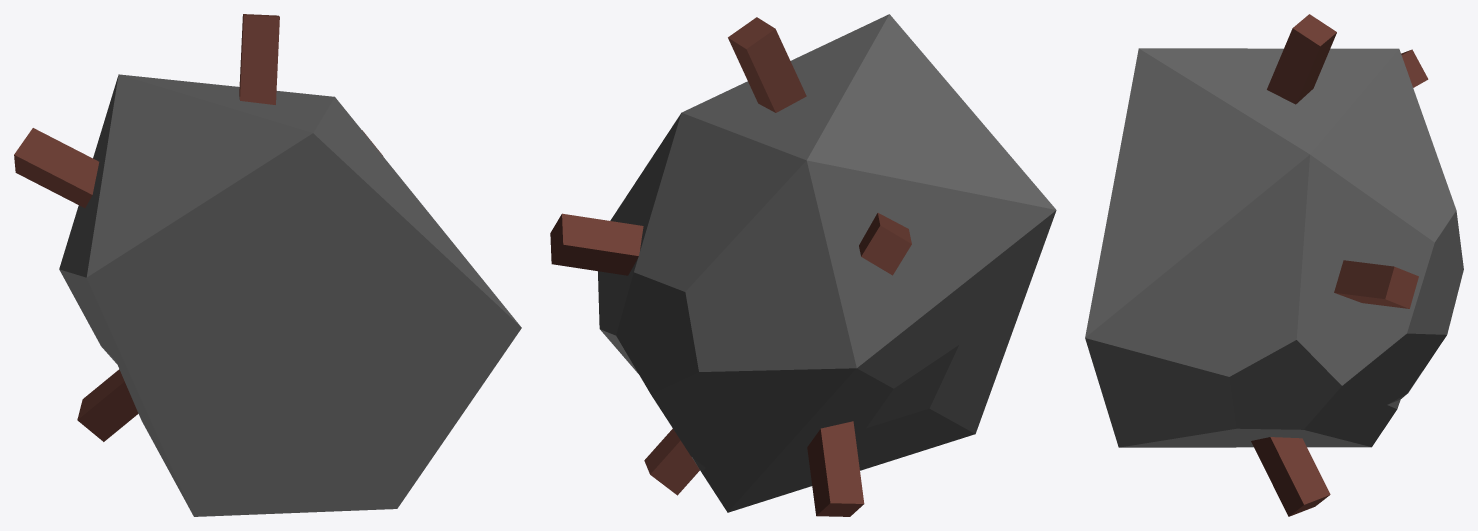
Rendered from IronNode.fbx.
The picture shows the model from 3 angles, left to right: view 1: azimuth 30°, elevation 25°; view 2: azimuth 150°, elevation 25°; view 3: azimuth 270°, elevation 25°; orthographic projection. The views are drawn at different scales.
Parts seen in each view (by area): view 1: Icosphere; view 2: Icosphere; view 3: Icosphere.
Boxes of the visible parts, x1,y1,x2,y2 form: Icosphere: [14, 14, 521, 516]; Icosphere: [550, 14, 1056, 516]; Icosphere: [1085, 14, 1463, 516].
Bounding box in the file's own units: 179 × 206 × 157.
